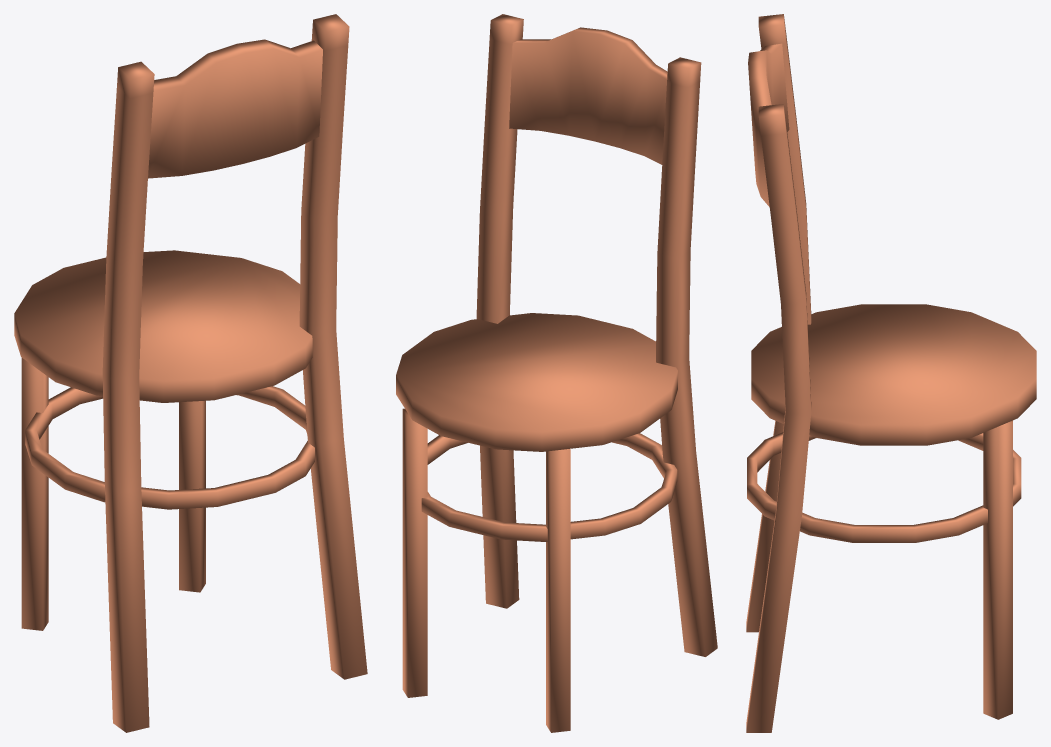
The model's file is Round Chair.fbx.
The picture shows the model from 3 angles, left to right: view 1: azimuth 30°, elevation 25°; view 2: azimuth 150°, elevation 25°; view 3: azimuth 270°, elevation 25°; orthographic projection. The views are drawn at different scales.
Parts seen in each view (by area): view 1: Cube.171; view 2: Cube.171; view 3: Cube.171.
Part boxes in pixels (<box>): Cube.171: <box>14,14,367,732</box>; Cube.171: <box>396,14,717,732</box>; Cube.171: <box>746,14,1036,732</box>.
Size of the model in its own units: 60.78 by 145 by 61.8.
